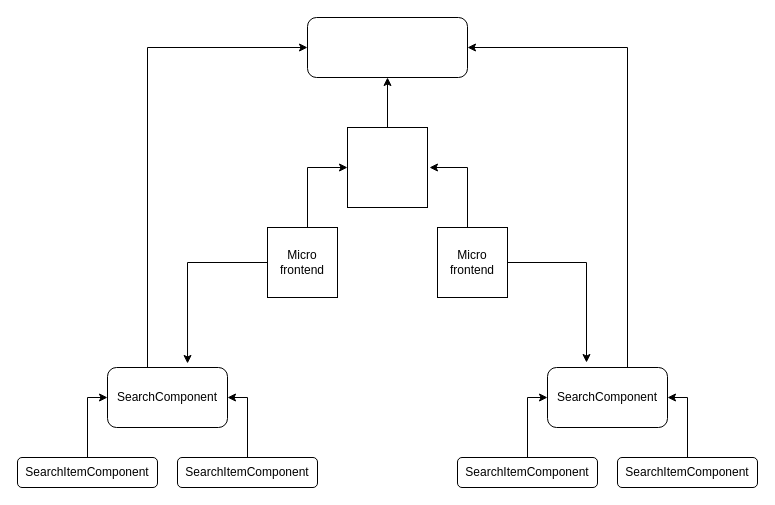
The diagram is 775 pixels wide and 505 high, and some of its shapes have lost their labels. Each missing label, with the box of its shape:
SearchModalComponent: (306, 16, 468, 78)
Shell: (346, 126, 428, 208)
